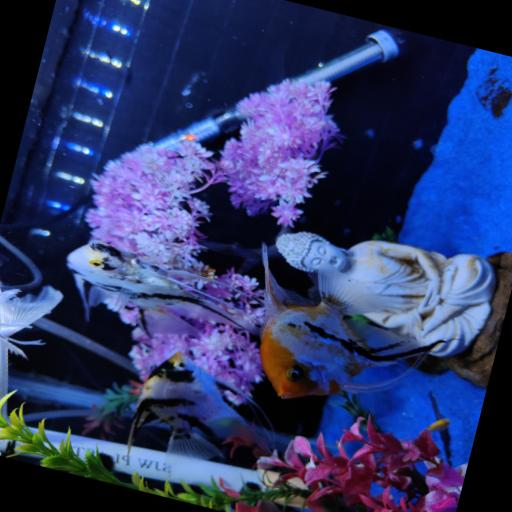Fish: (260, 244, 437, 398), (67, 241, 259, 334), (128, 353, 265, 459), (0, 286, 62, 358)
